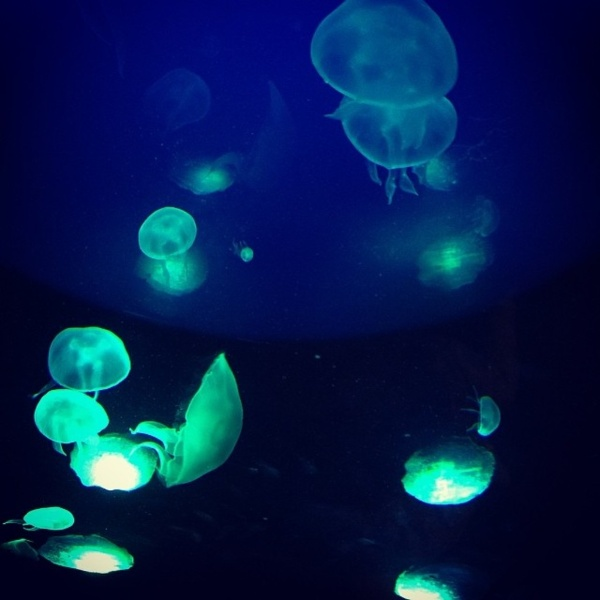Jellyfish: (310, 0, 457, 110), (131, 353, 244, 489), (342, 99, 457, 206), (47, 332, 128, 405), (404, 444, 495, 508), (418, 213, 489, 295), (33, 388, 110, 456), (2, 532, 131, 572), (67, 435, 156, 492), (137, 206, 197, 284), (135, 249, 207, 297), (391, 567, 476, 599), (178, 154, 232, 197), (5, 505, 75, 534), (463, 394, 502, 435), (230, 244, 255, 261)
